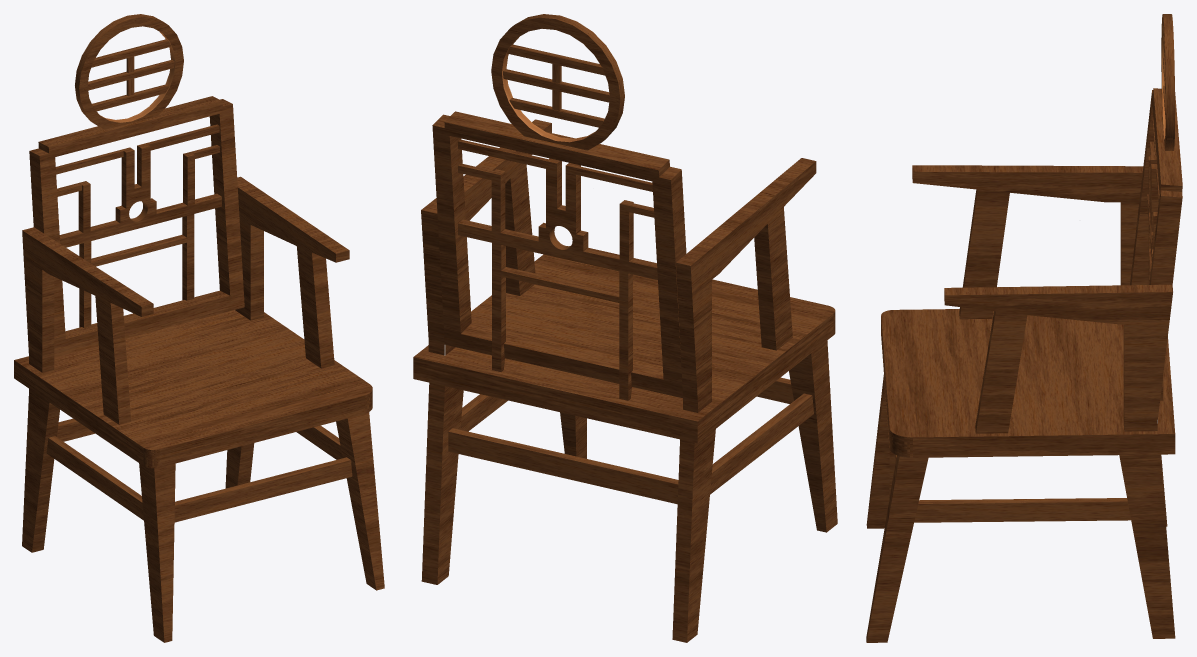
The model's file is chair.glb.
The picture shows the model from 3 angles, left to right: view 1: azimuth 30°, elevation 25°; view 2: azimuth 150°, elevation 25°; view 3: azimuth 270°, elevation 25°; orthographic projection. The views are drawn at different scales.
Parts seen in each view (by area): view 1: SketchUp.009_22; view 2: SketchUp.009_22; view 3: SketchUp.009_22.
Part boxes in pixels (left/top/right/bottom): SketchUp.009_22: left=14, top=14, right=384, bottom=642; SketchUp.009_22: left=413, top=14, right=837, bottom=642; SketchUp.009_22: left=866, top=14, right=1182, bottom=642.
Bounding box in the file's own units: 7.94 × 15.73 × 8.08.
Materials: 3 (2 with a texture image).
